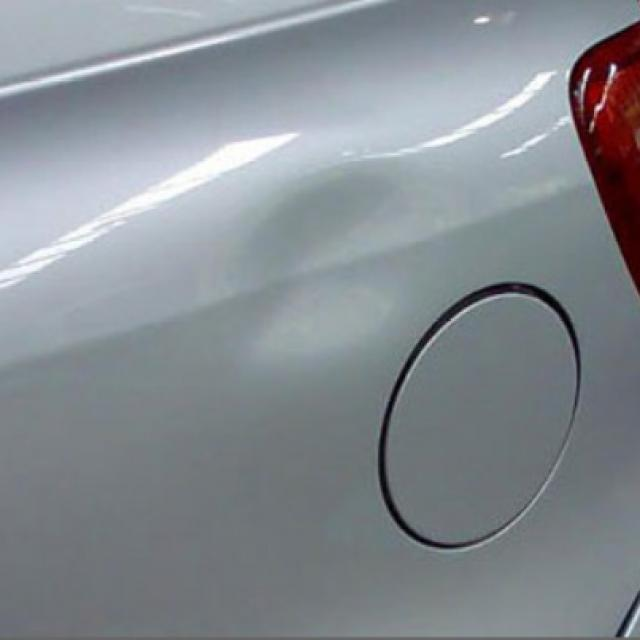dents: (198, 180, 469, 367)
